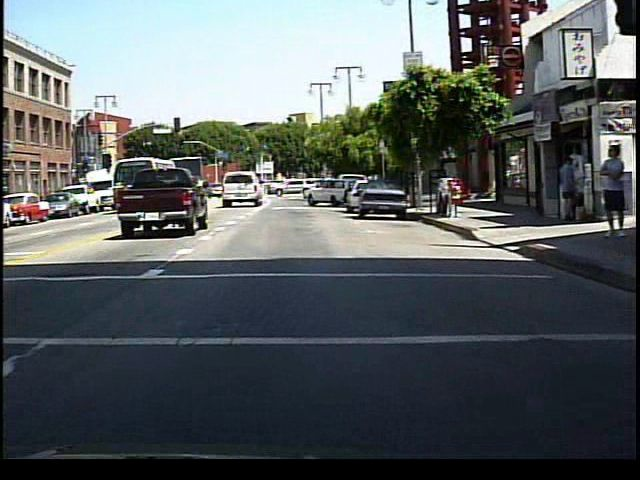person: (593, 140, 622, 240), (557, 153, 581, 224)
